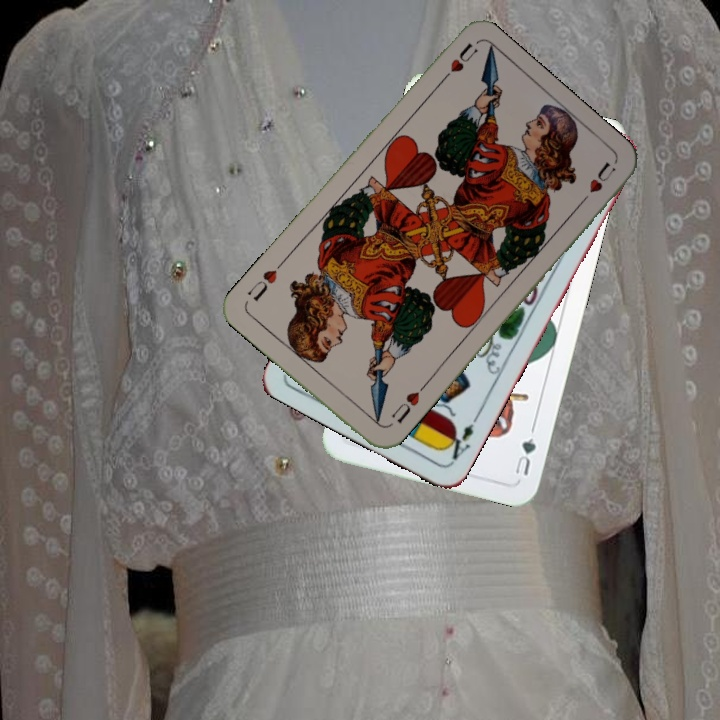EA: (440, 419, 476, 465)
GU: (511, 433, 539, 478)
HU: (434, 39, 480, 88), (386, 381, 428, 427)
